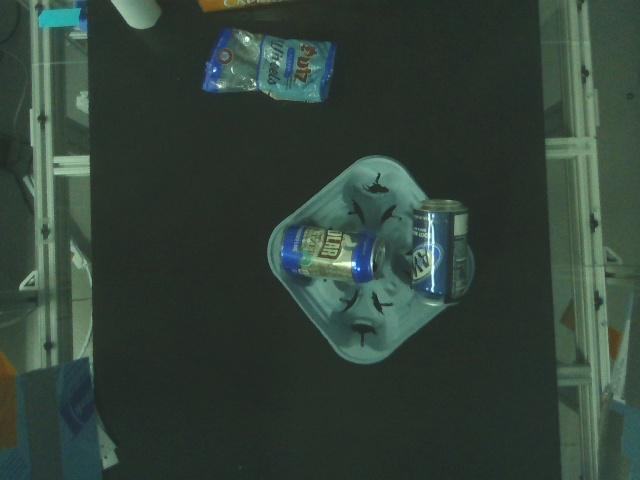cardboard: (265, 154, 474, 365), (108, 0, 163, 31), (195, 0, 295, 14)
metal: (410, 198, 471, 306), (279, 223, 386, 283)
plastic: (203, 28, 336, 104)
